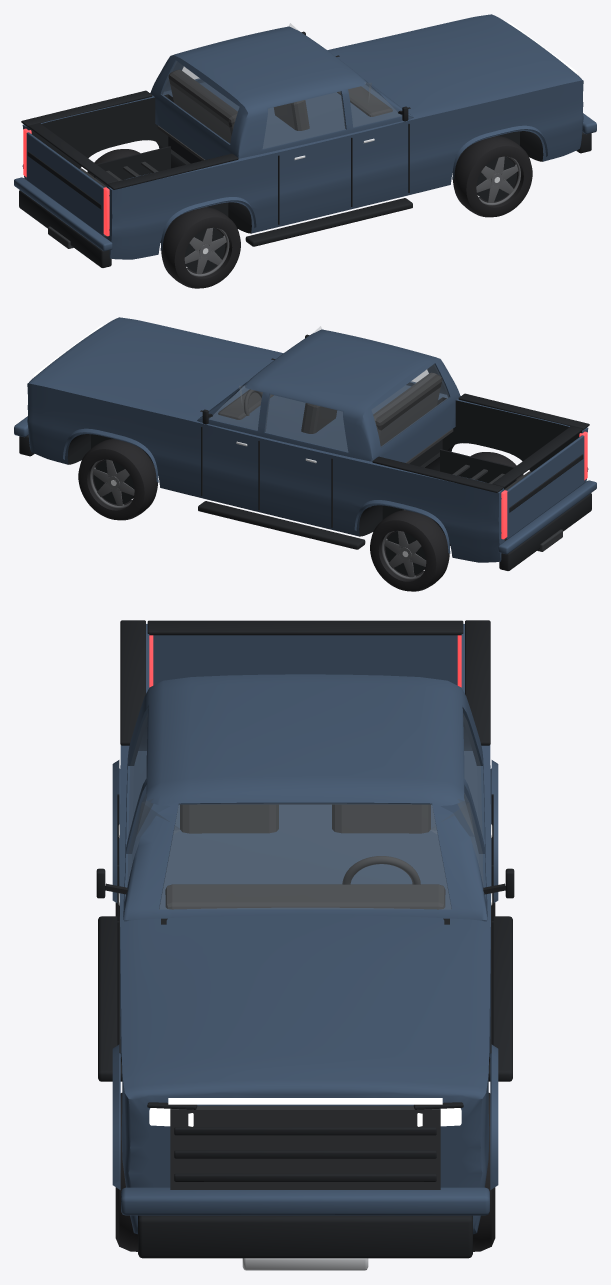
File: car.glb
3 renders of one model, top to bottom at view 1: azimuth 30°, elevation 25°; view 2: azimuth 150°, elevation 25°; view 3: azimuth 270°, elevation 25°, orthographic. The views are drawn at different scales.
Visible parts, largest first — view 1: Body, Cabin, TailPanel, Tire.003, Tire.001, WindowRearR, RearBack, RunningBoard.001, RearWindow, BumperRear, BumperRearCap, WindowFrontR (+11 smaller); view 2: Body, Cabin, TailPanel, Tire.002, Tire, WindowRearL, RearBack, RunningBoard, RearWindow, BumperRear, BumperRearCap, WindowFrontL (+11 smaller); view 3: Body, Cabin, Windshield, GrillePanel, BumperLow, TailPanel, BumperCap, Dash, GateCap, RunningBoard, RunningBoard.001, SeatBack (+15 smaller).
Part boxes in pixels (x1,y1,x2,y2): Body: (22,14,583,259); Cabin: (150,26,413,159); TailPanel: (26,132,105,236); Tire.003: (161,207,240,288); Tire.001: (453,136,532,217); WindowRearR: (263,91,345,148); RearBack: (168,69,237,143); RunningBoard.001: (245,198,412,246); RearWindow: (162,61,238,143); BumperRear: (19,190,111,267); BumperRearCap: (14,177,112,251); WindowFrontR: (348,82,401,126); Body: (27,317,588,562); Cabin: (197,329,460,462); TailPanel: (505,435,584,539); Tire.002: (370,510,449,591); Tire: (78,439,157,520); WindowRearL: (265,394,347,451); RearBack: (373,372,442,446); RunningBoard: (198,501,365,549); RearWindow: (372,364,448,446); BumperRear: (499,493,591,570); BumperRearCap: (498,480,596,554); WindowFrontL: (209,385,262,429); Body: (120,624,490,1234); Cabin: (123,674,487,921); Windshield: (159,803,451,909); GrillePanel: (170,1106,440,1189); BumperLow: (138,1215,472,1258); TailPanel: (153,635,457,685); BumperCap: (121,1187,489,1215); Dash: (165,884,445,909); GateCap: (147,620,463,635); RunningBoard: (488,916,512,1081); RunningBoard.001: (98,916,122,1081); SeatBack: (332,804,430,833).
Size of the model in its own units: 5.99 by 1.95 by 2.2.
